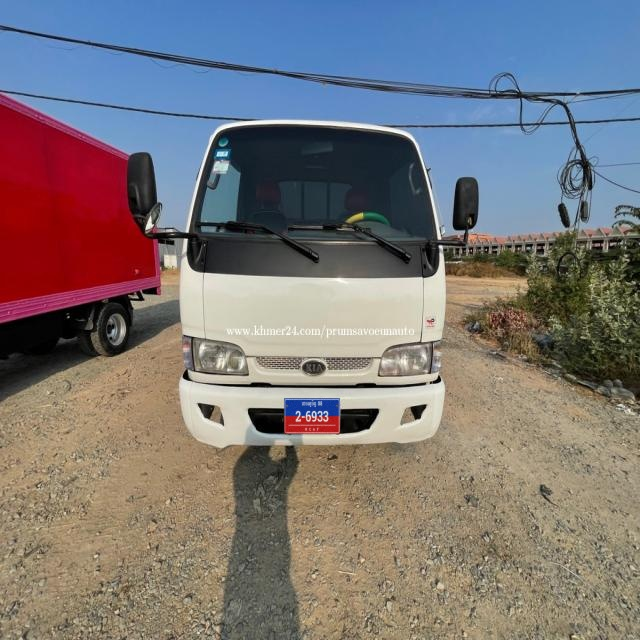Plate Number: (284, 398, 341, 435)
